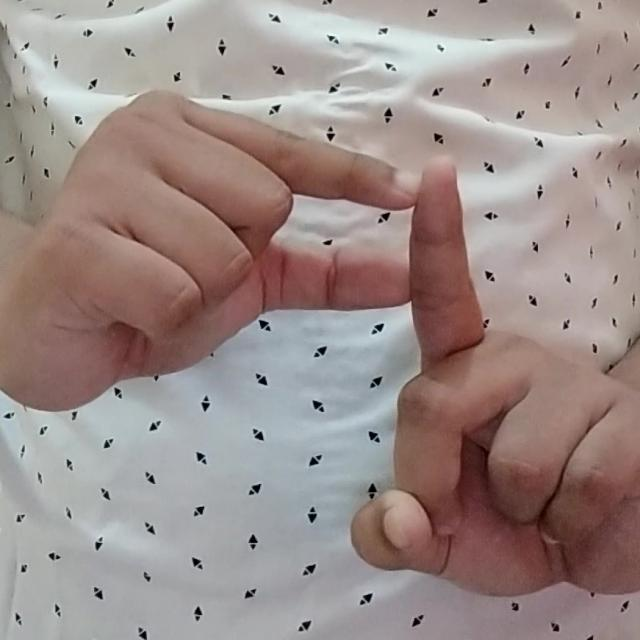P: (21, 76, 629, 611)
